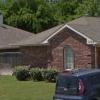Tree: (5, 1, 77, 28)
